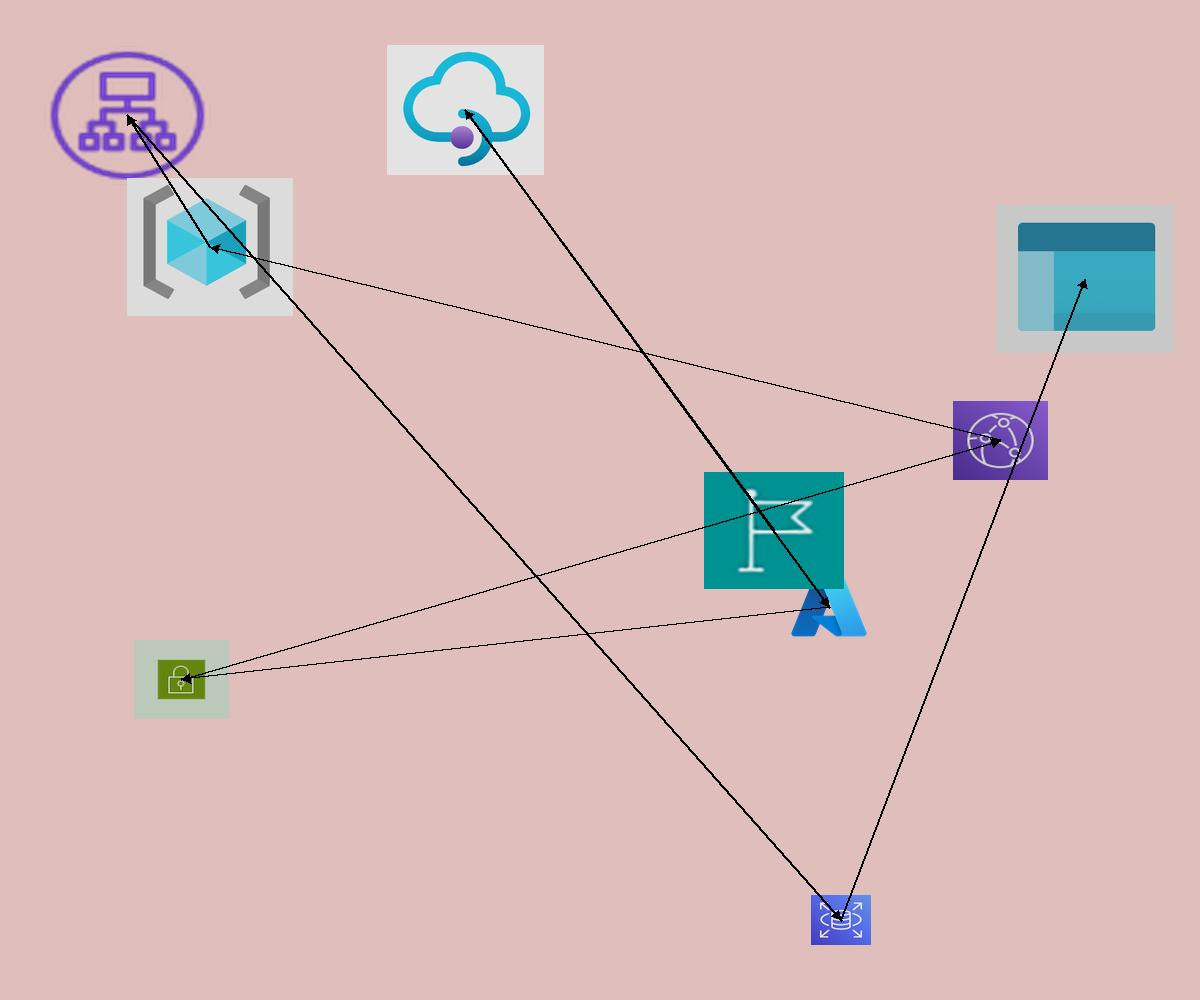AWS-CloudFront: (953, 401, 1048, 480)
AWS-Public-subnet: (134, 640, 229, 719)
AWS-RDS: (811, 895, 871, 945)
AWS-Region: (704, 472, 844, 589)
AWS-Res_Elastic-Load-Balancing_Application-Load-Balancer: (44, 46, 211, 185)
Azure_api_gateway: (387, 45, 544, 175)
Azure_management-portal: (996, 205, 1174, 353)
Azure_resource_group: (127, 178, 293, 316)
Azure_services: (788, 573, 870, 641)
